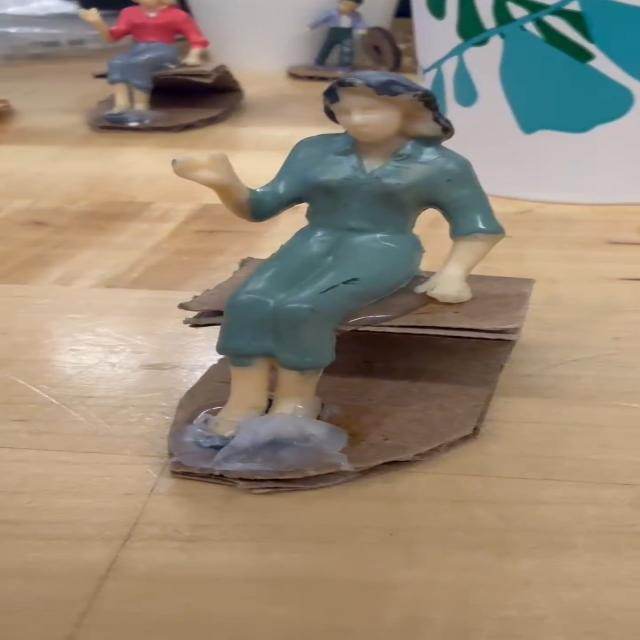Authorized: (151, 70, 512, 458)
